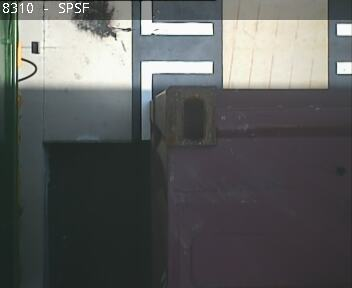groundmarker_1: (140, 1, 212, 140)
